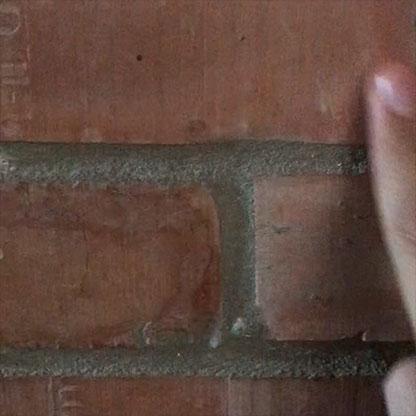fingertip: (355, 51, 416, 123)
